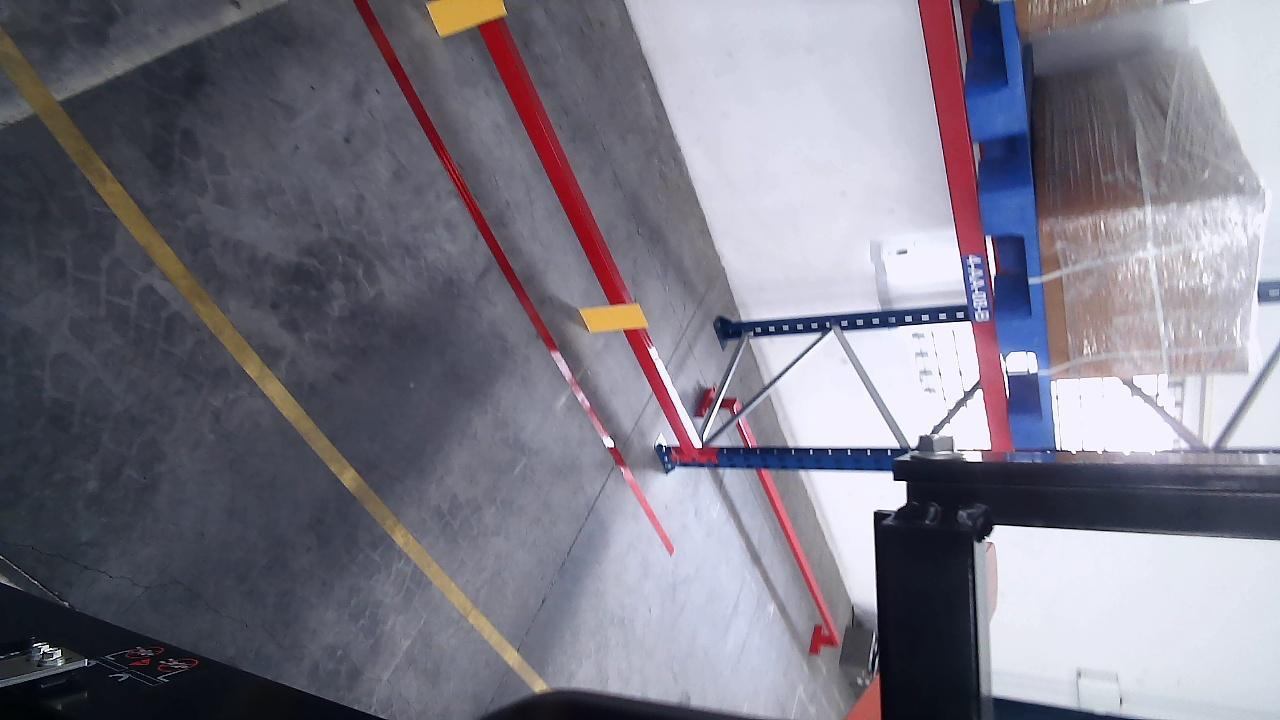h_rack: (477, 12, 698, 452), (917, 0, 1015, 450), (582, 303, 650, 332)
orange_strip: (422, 0, 504, 36)
red_line: (351, 0, 674, 556)
small_pallet: (978, 187, 1056, 449)
yellow_line: (0, 16, 550, 693)
